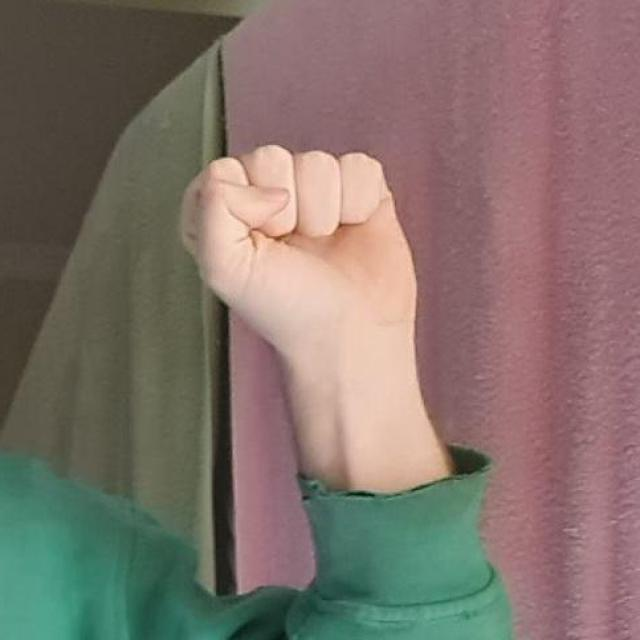hand: (180, 141, 457, 374)
